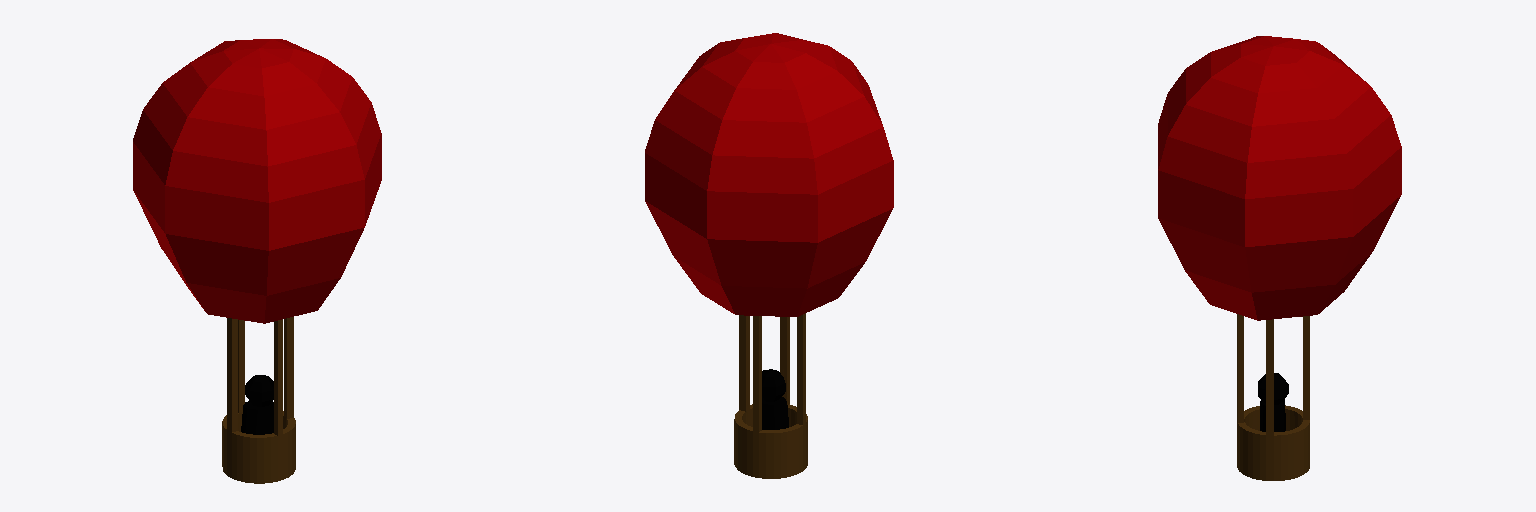
File: balloon.obj
3 views of the same model, side by side, from view 1: azimuth 30°, elevation 25°; view 2: azimuth 150°, elevation 25°; view 3: azimuth 270°, elevation 25° (orthographic).
Visible parts, largest first — view 1: balloon_mesh_Cylinder, person_mesh_Cylinder.001; view 2: balloon_mesh_Cylinder, person_mesh_Cylinder.001; view 3: balloon_mesh_Cylinder, person_mesh_Cylinder.001.
Part boxes in pixels (left/top/right/bottom): balloon_mesh_Cylinder: left=133, top=39, right=381, bottom=483; person_mesh_Cylinder.001: left=241, top=375, right=273, bottom=434; balloon_mesh_Cylinder: left=645, top=33, right=893, bottom=478; person_mesh_Cylinder.001: left=762, top=369, right=788, bottom=429; balloon_mesh_Cylinder: left=1158, top=36, right=1401, bottom=480; person_mesh_Cylinder.001: left=1258, top=373, right=1288, bottom=431.
Bounding box in the file's own units: 3.67 × 6.8 × 3.57.